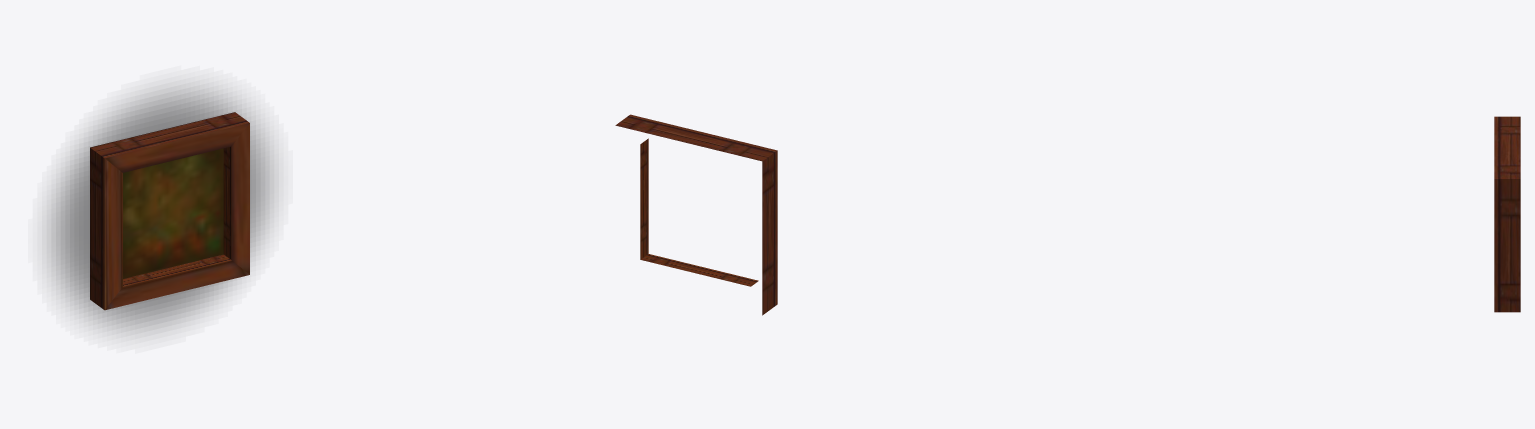
The model's file is prop_tree_DG_ur.glb.
3 renders of one model, left to right at view 1: azimuth 30°, elevation 25°; view 2: azimuth 150°, elevation 25°; view 3: azimuth 270°, elevation 25°, orthographic. The views are drawn at different scales.
Visible parts, largest first — view 1: tree_planter_woodbox_ul_1, shadow_DG_tree_ur; view 2: tree_planter_woodbox_ul_1; view 3: tree_planter_woodbox_ul_1.
Part boxes in pixels (<box>): tree_planter_woodbox_ul_1: <box>90,112,249,310</box>; shadow_DG_tree_ur: <box>47,84,274,333</box>; tree_planter_woodbox_ul_1: <box>615,114,777,315</box>; tree_planter_woodbox_ul_1: <box>1494,116,1520,312</box>.
Bounding box in the file's own units: 9.86 × 9.86 × 13.98.
Materials: 4 (4 with a texture image).
